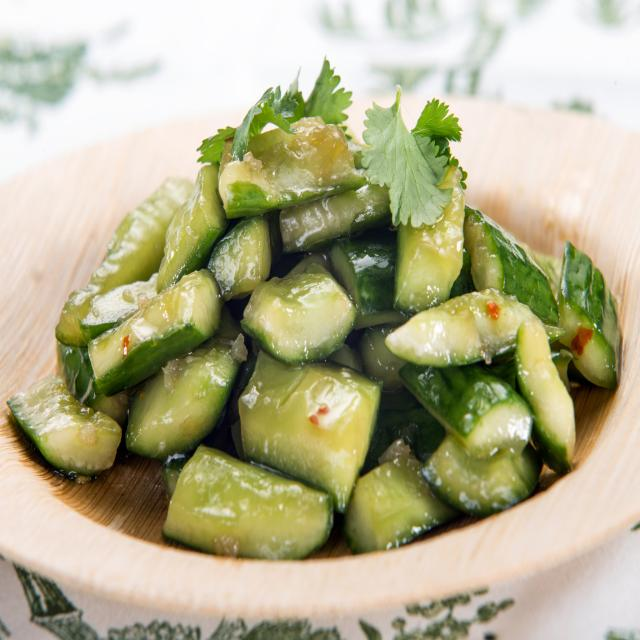Pickle: (55, 178, 194, 347), (239, 351, 381, 513), (162, 445, 334, 560), (89, 269, 224, 396), (219, 116, 366, 218), (126, 338, 240, 460), (344, 440, 458, 554), (400, 364, 534, 458), (386, 289, 541, 368), (241, 265, 358, 364), (464, 207, 559, 327), (8, 376, 121, 475), (394, 167, 465, 316), (422, 434, 542, 516), (156, 163, 229, 293), (558, 242, 621, 389), (515, 321, 575, 473), (279, 184, 391, 254), (329, 229, 405, 328), (208, 216, 271, 301)
